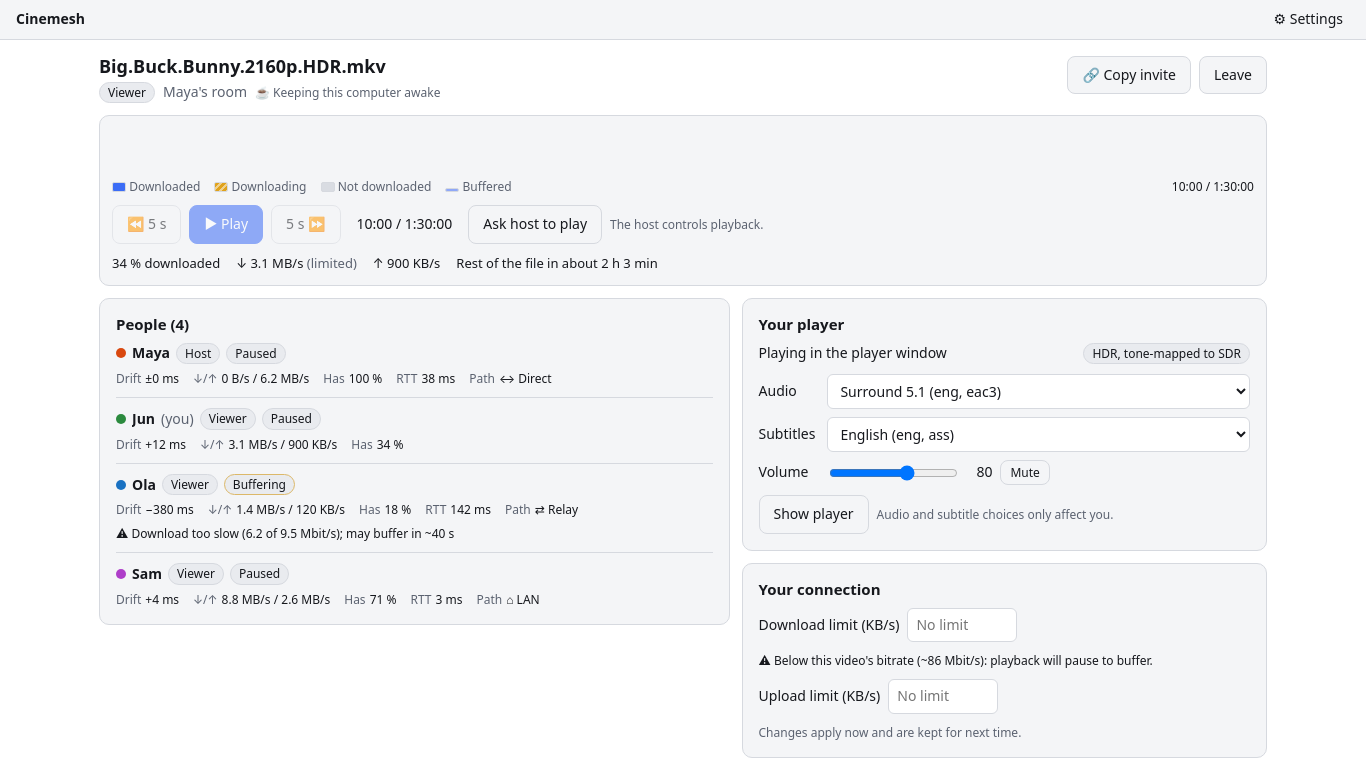
Test: Room › the viewer's transfer line says (limited) only while a download limit is set
Clear the number field labelled "Download limit (KB/s)" at (962, 625), box [908,608,1018,642]
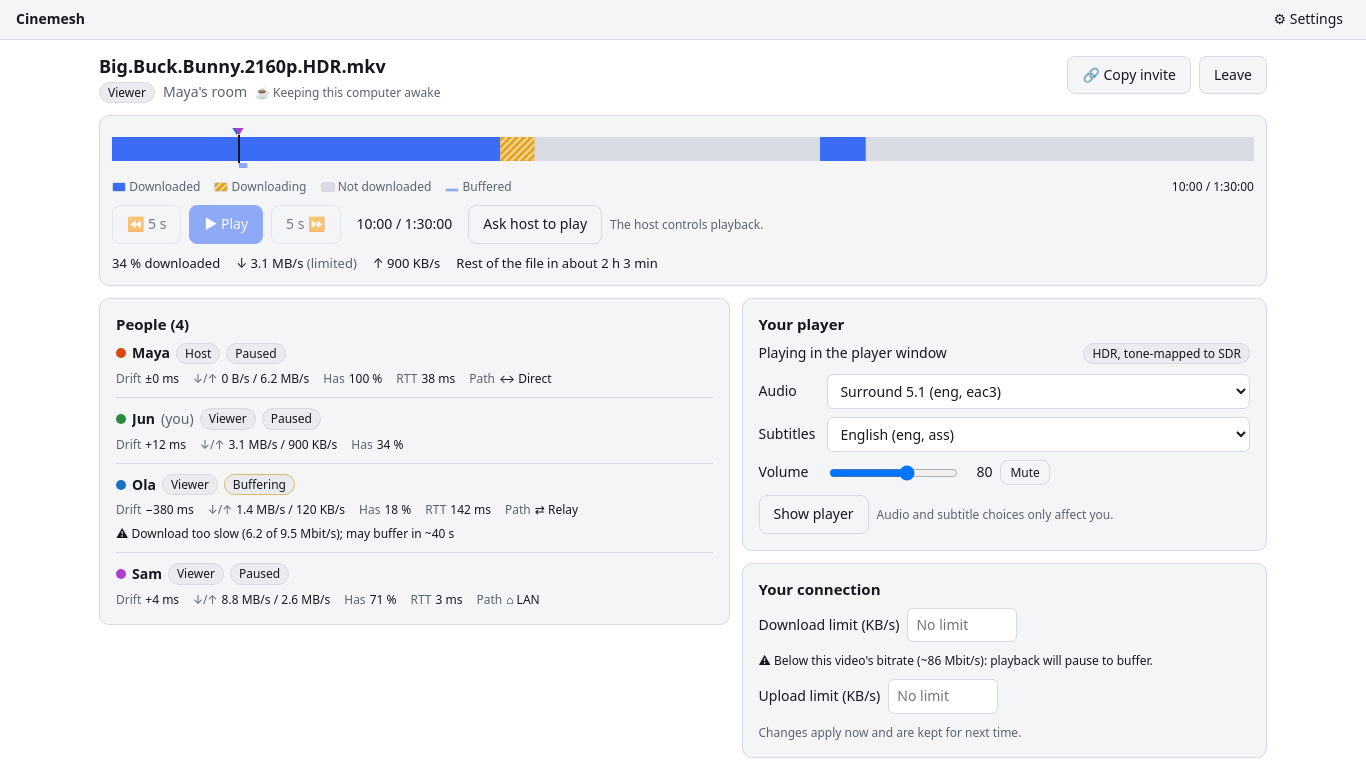
Press Enter in the number field labelled "Download limit (KB/s)", box [908,608,1018,642]
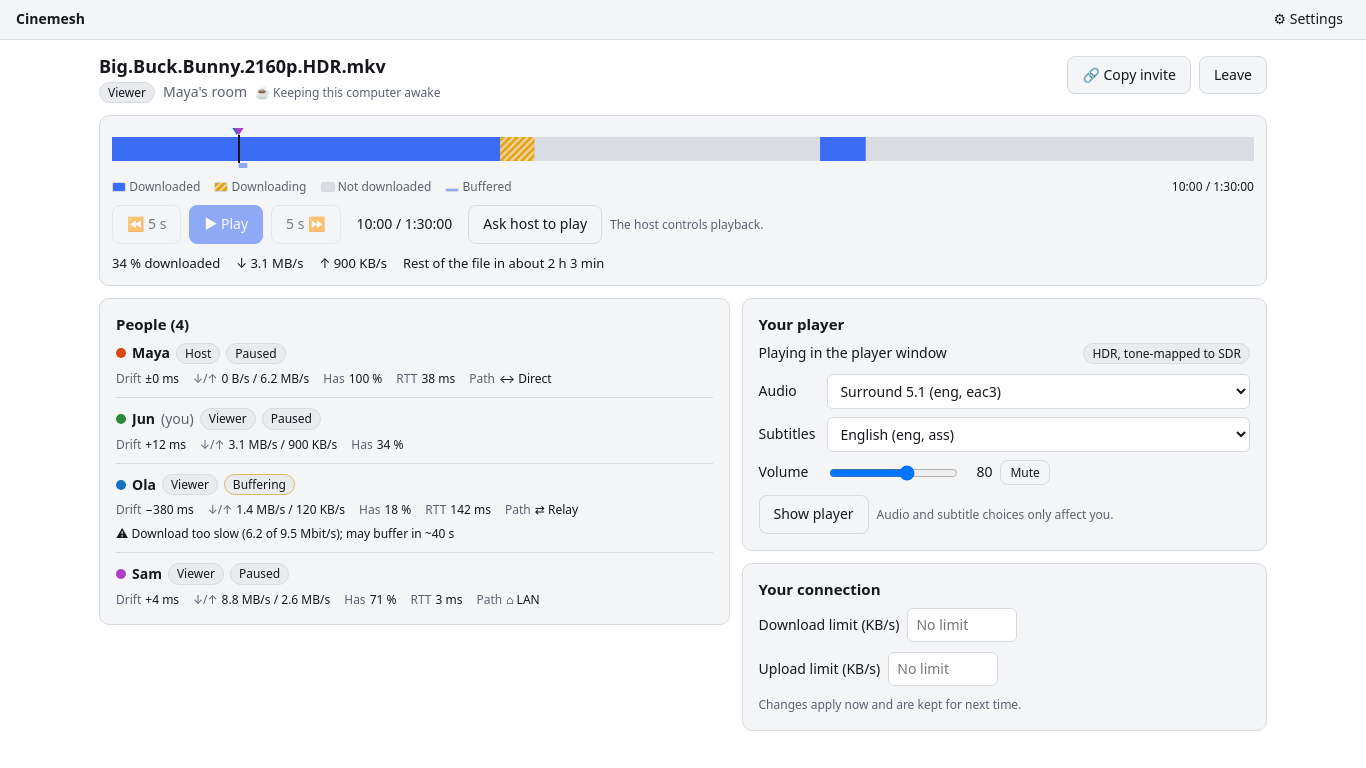
Expected: the text "(limited)" is gone
